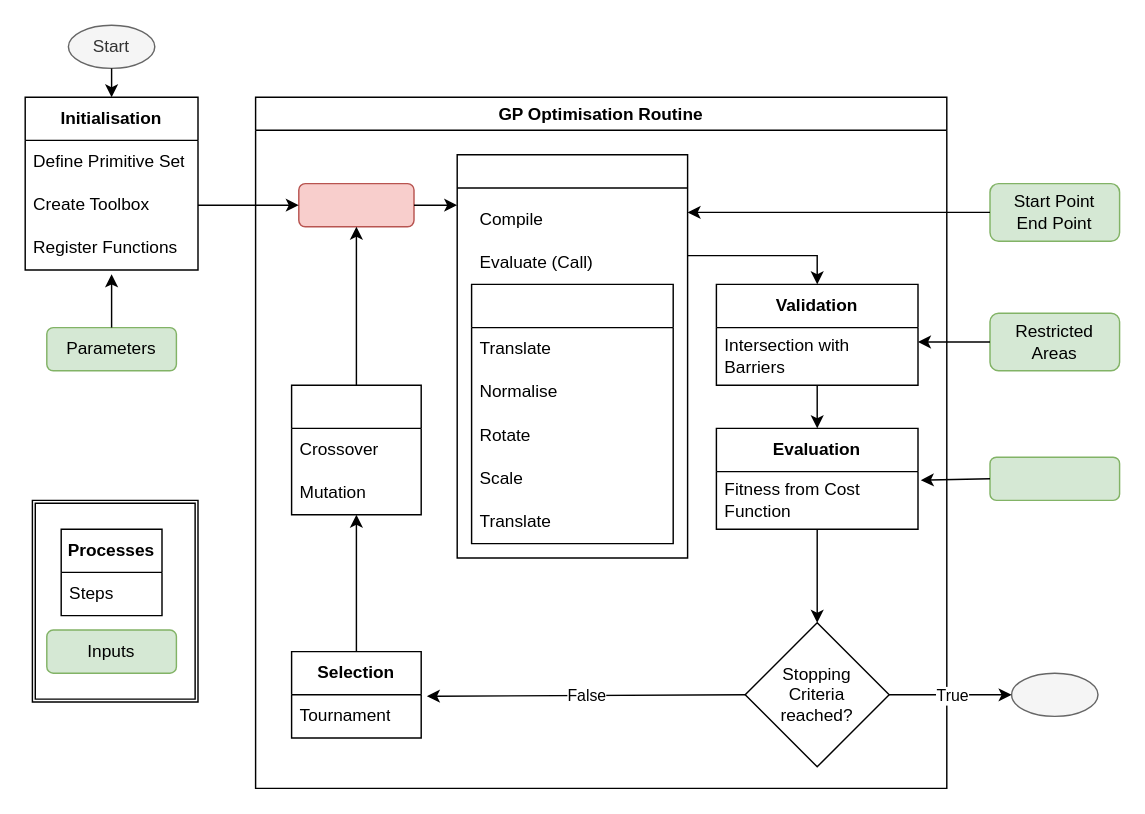
This 1145x814 diagram has some shape labels left out. Here are the shapes that lost their labels. From the top down, the box of each, then its label:
(297, 182, 414, 227): Population
(456, 153, 688, 558): Transformation
(470, 283, 673, 544): Geo Mapping
(290, 384, 421, 515): Variation
(989, 456, 1120, 500): Cost Function
(1010, 672, 1098, 716): Stop
